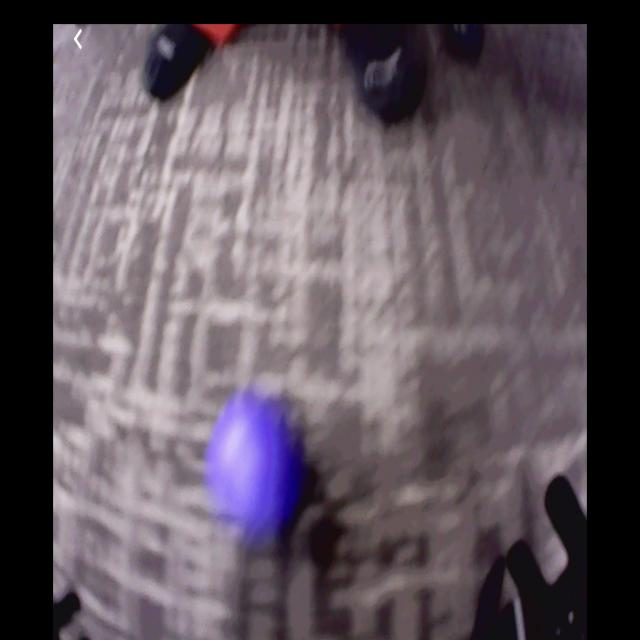ball: (211, 401, 300, 533)
